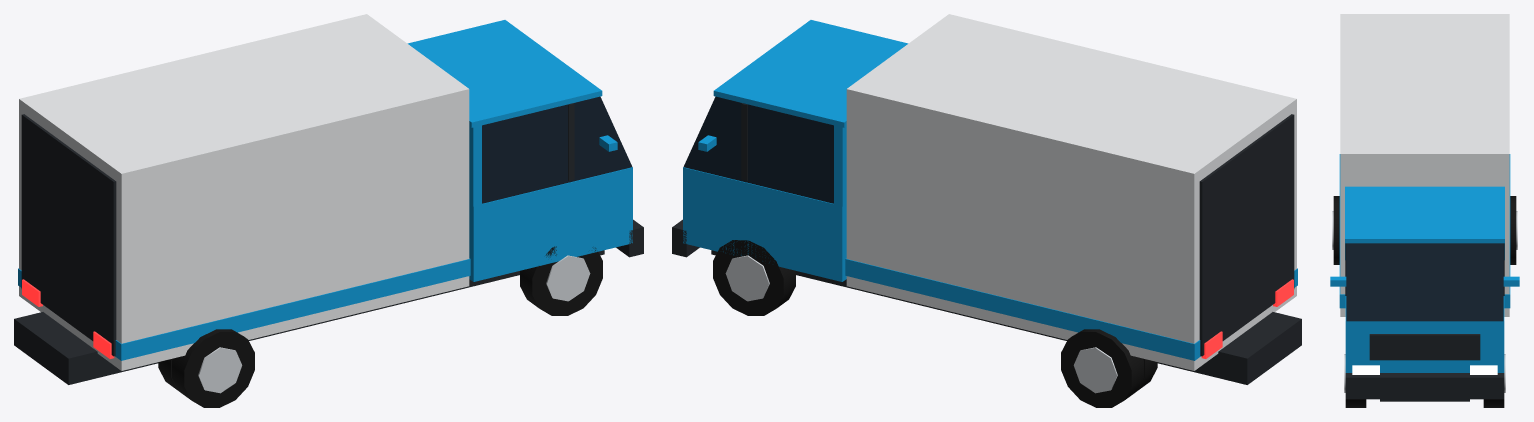
The model's file is boxtruck.glb.
3 views of the same model, side by side, from view 1: azimuth 30°, elevation 25°; view 2: azimuth 150°, elevation 25°; view 3: azimuth 270°, elevation 25° (orthographic). The views are drawn at different scales.
Visible parts, largest first — view 1: CargoBox, RollDoor, CabLower, CabRoof, CabGlass, Wheel (×2), Stripe, Chassis, CabBack, Bumper; view 2: CargoBox, RollDoor, CabLower, CabRoof, CabGlass, Wheel (×2), Stripe, Chassis, CabBack, Bumper; view 3: CargoBox, CabGlass, CabRoof, CabLower, Bumper, Grille, Wheel (×4), Stripe, Headlight (×2), Box_Truck, Chassis.
Boxes of the visible parts, x1=… form: CargoBox: x1=19, y1=14, x2=469, y2=370; RollDoor: x1=21, y1=114, x2=116, y2=356; CabLower: x1=469, y1=167, x2=632, y2=281; CabRoof: x1=407, y1=20, x2=602, y2=127; CabGlass: x1=482, y1=96, x2=632, y2=203; Wheel (×2): x1=172, y1=246, x2=602, y2=407; Stripe: x1=18, y1=258, x2=470, y2=360; Chassis: x1=14, y1=250, x2=604, y2=384; CabBack: x1=469, y1=121, x2=481, y2=206; Bumper: x1=616, y1=219, x2=643, y2=257; CargoBox: x1=846, y1=14, x2=1296, y2=370; RollDoor: x1=1199, y1=114, x2=1294, y2=356; CabLower: x1=683, y1=167, x2=846, y2=281; CabRoof: x1=713, y1=20, x2=908, y2=127; CabGlass: x1=683, y1=96, x2=833, y2=203; Wheel (×2): x1=713, y1=240, x2=1143, y2=407; Stripe: x1=845, y1=258, x2=1297, y2=360; Chassis: x1=711, y1=250, x2=1301, y2=384; CabBack: x1=834, y1=123, x2=846, y2=206; Bumper: x1=672, y1=219, x2=699, y2=257; CargoBox: x1=1340, y1=14, x2=1509, y2=316; CabGlass: x1=1346, y1=243, x2=1503, y2=321; CabRoof: x1=1345, y1=186, x2=1504, y2=243; CabLower: x1=1345, y1=296, x2=1504, y2=372; Bumper: x1=1345, y1=373, x2=1504, y2=399; Grille: x1=1369, y1=334, x2=1480, y2=360; Wheel (×4): x1=1332, y1=196, x2=1517, y2=407; Stripe: x1=1339, y1=154, x2=1510, y2=308; Headlight (×2): x1=1352, y1=365, x2=1497, y2=374; Box_Truck: x1=1330, y1=276, x2=1519, y2=286; Chassis: x1=1380, y1=399, x2=1469, y2=401.
Size of the model in its own units: 7.65 by 3.35 by 2.74.
